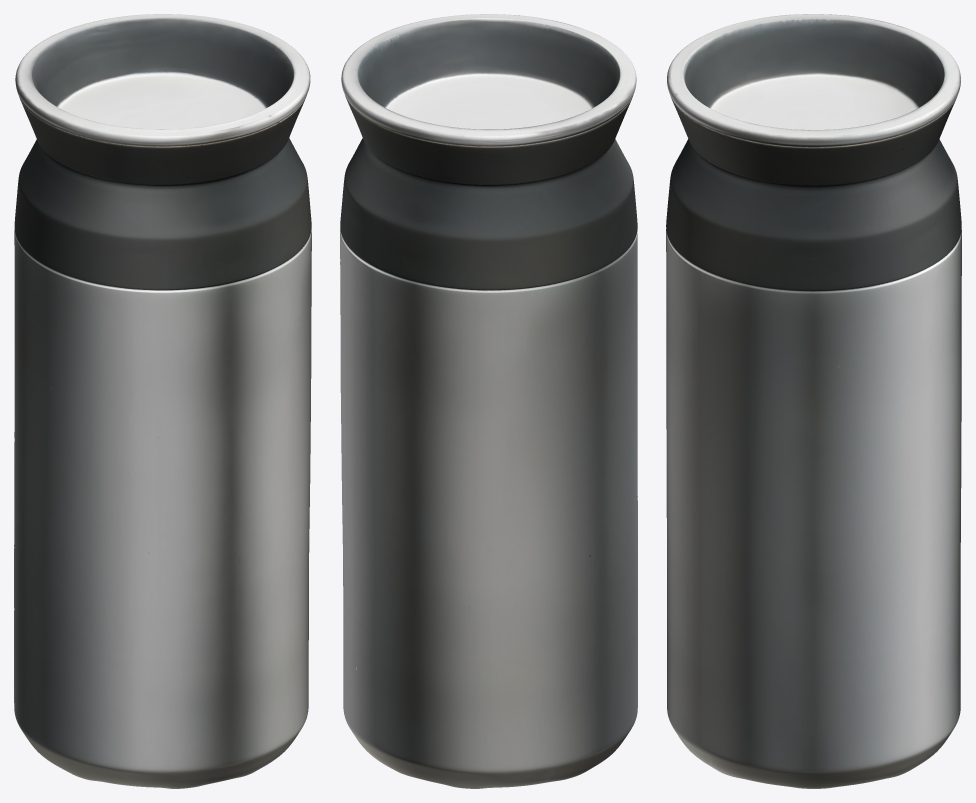
3 renders of one model, left to right at view 1: azimuth 30°, elevation 25°; view 2: azimuth 150°, elevation 25°; view 3: azimuth 270°, elevation 25°, orthographic.
Visible parts, largest first — view 1: node_0; view 2: node_0; view 3: node_0.
Part boxes in pixels (x1=…): node_0: x1=14, y1=14, x2=311, y2=788; node_0: x1=340, y1=14, x2=637, y2=788; node_0: x1=666, y1=14, x2=961, y2=788.
Size of the model in its own units: 0.4587 by 1.12 by 0.453.
1 material, 1 textured.
